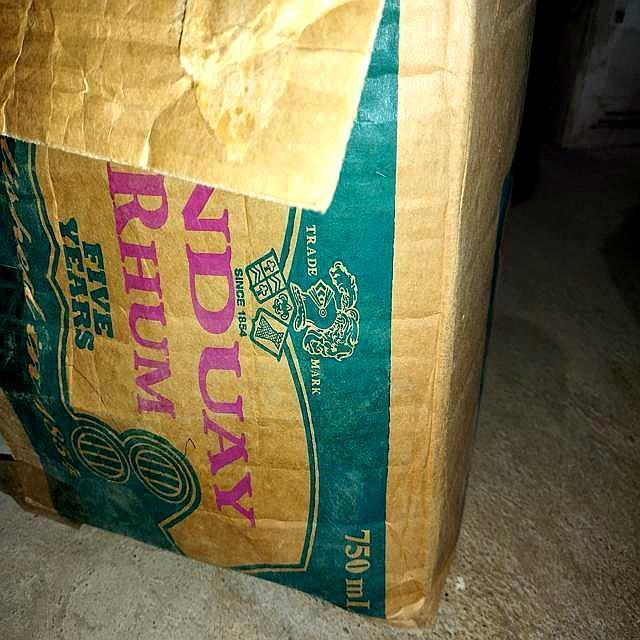Biodegradable: (1, 1, 537, 623)
